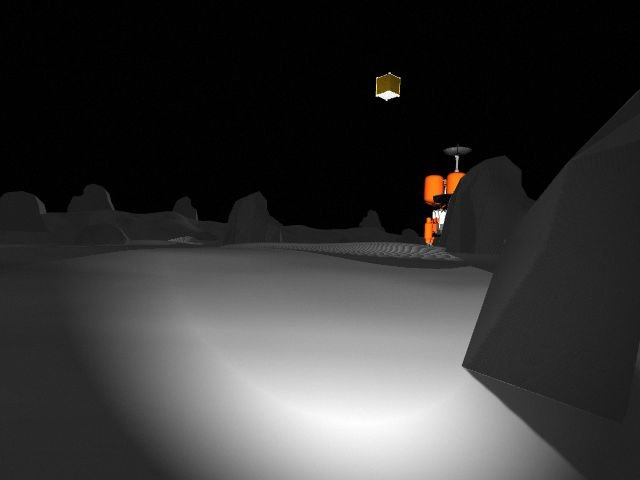cubesat: (371, 66, 408, 109)
